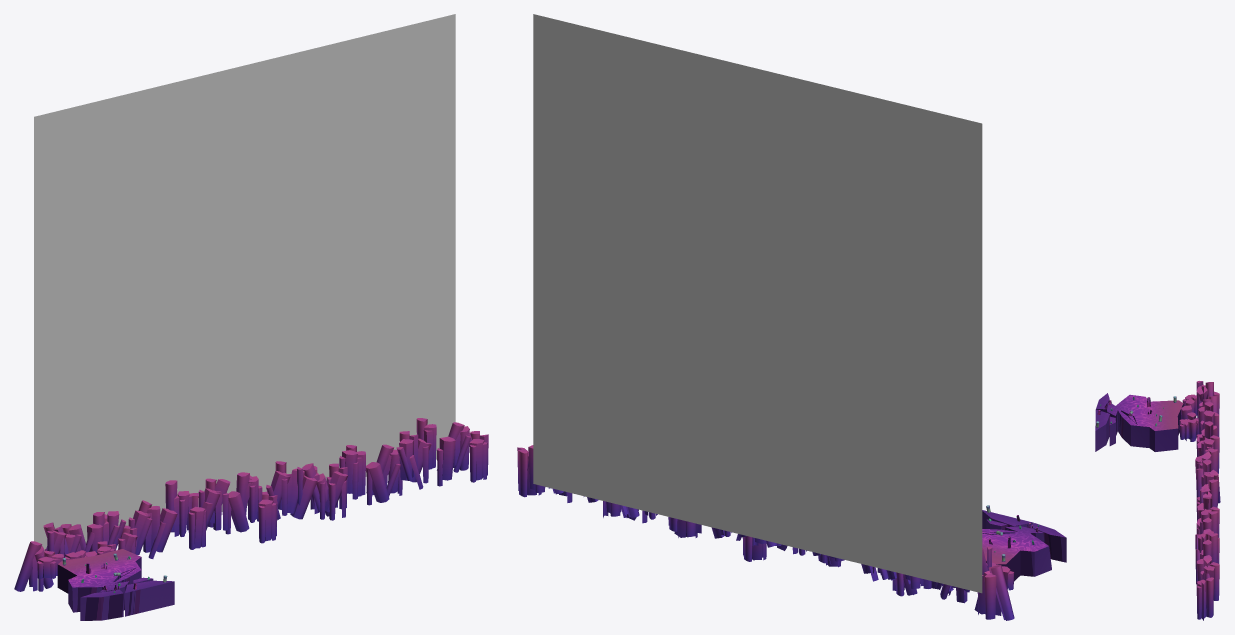
File: Map_Lost Sector_Model.fbx
3 renders of one model, left to right at view 1: azimuth 30°, elevation 25°; view 2: azimuth 150°, elevation 25°; view 3: azimuth 270°, elevation 25°, orthographic. The views are drawn at different scales.
Parts seen in each view (by area): view 1: back ground005, Object199, surface004, Object198; view 2: back ground005, Object199, surface004; view 3: Object199, surface004, Object198.
Boxes of the visible parts, x1,y1,x2,y2 form: back ground005: (34,14,455,550); Object199: (14,418,488,591); surface004: (57,549,174,620); Object198: (37,541,167,592); back ground005: (533,14,982,593); Object199: (517,445,1014,620); surface004: (982,510,1066,581); Object199: (1195,381,1220,620); surface004: (1095,393,1183,451); Object198: (1095,394,1198,441).
Size of the model in its own units: 11369 by 10860 by 2925.
